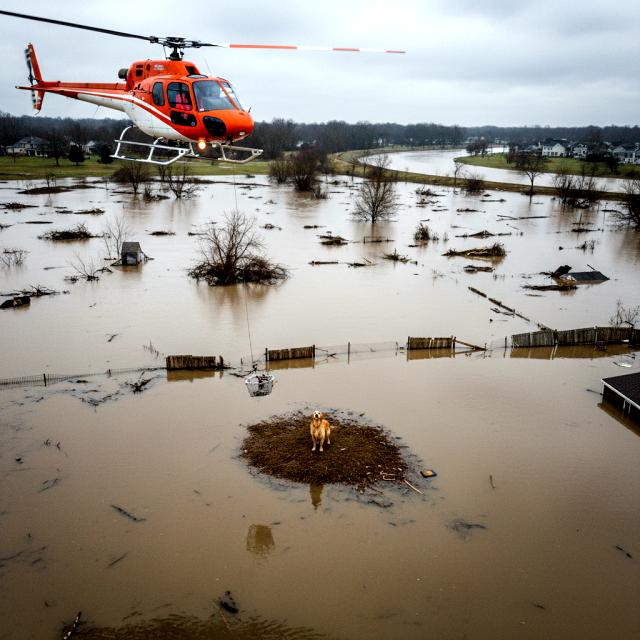dog: (296, 402, 341, 460)
